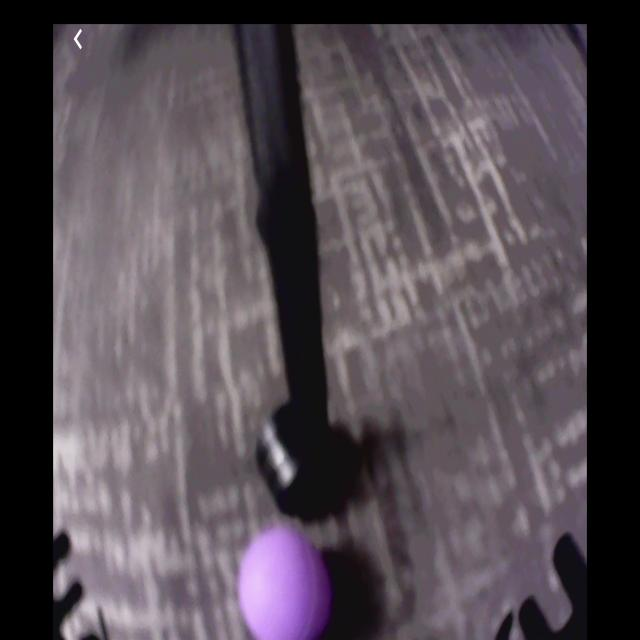ball: (239, 525, 333, 640)
